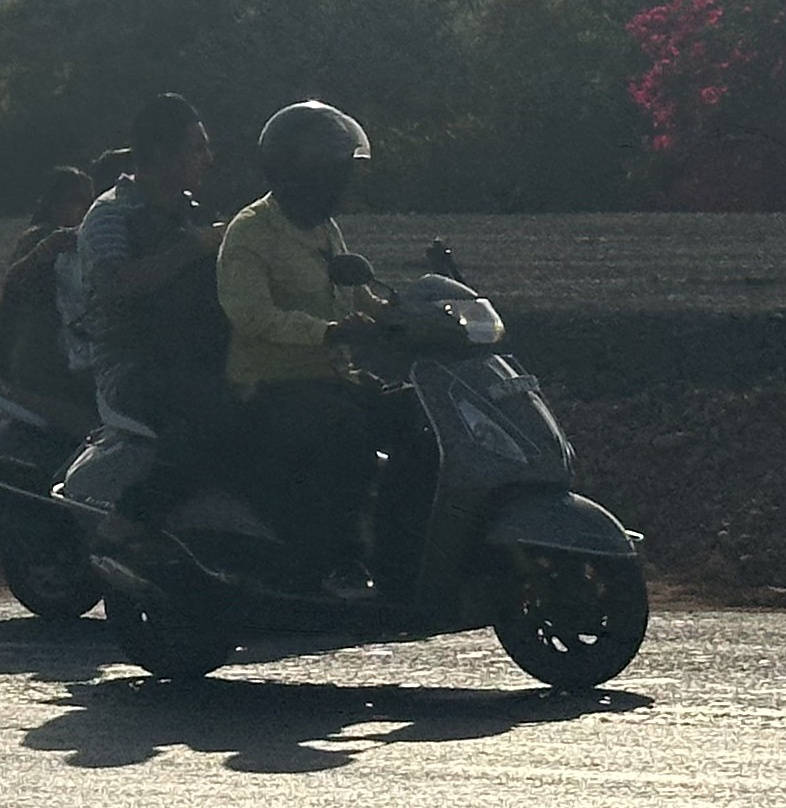BikeWithRider: (46, 81, 667, 697), (0, 144, 141, 623)
Helmet: (245, 91, 383, 226)
NoHelmet: (121, 88, 219, 199), (29, 161, 95, 230)
